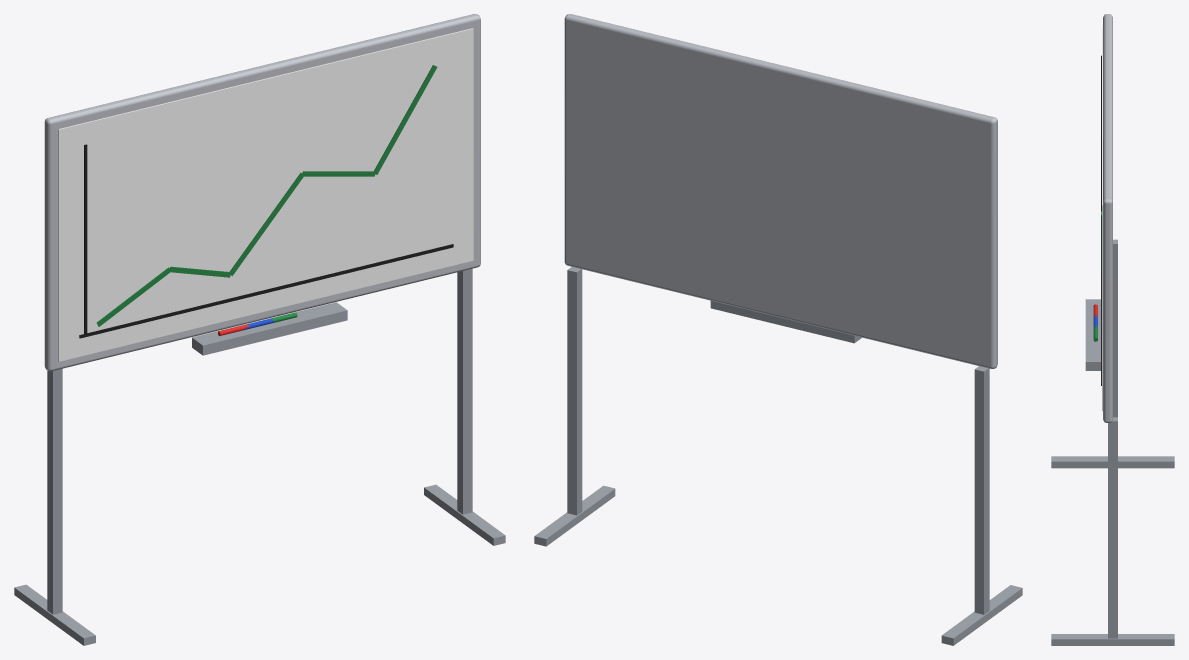
Rendered from whiteboard.glb.
The picture shows the model from 3 angles, left to right: view 1: azimuth 30°, elevation 25°; view 2: azimuth 150°, elevation 25°; view 3: azimuth 270°, elevation 25°; orthographic projection. The views are drawn at different scales.
Parts seen in each view (by area): view 1: main; view 2: main; view 3: main.
Part boxes in pixels (<box>): main: <box>14,14,505,645</box>; main: <box>534,14,1022,645</box>; main: <box>1051,14,1174,645</box>.
Bounding box in the file's own units: 1.8 × 2 × 0.5.
